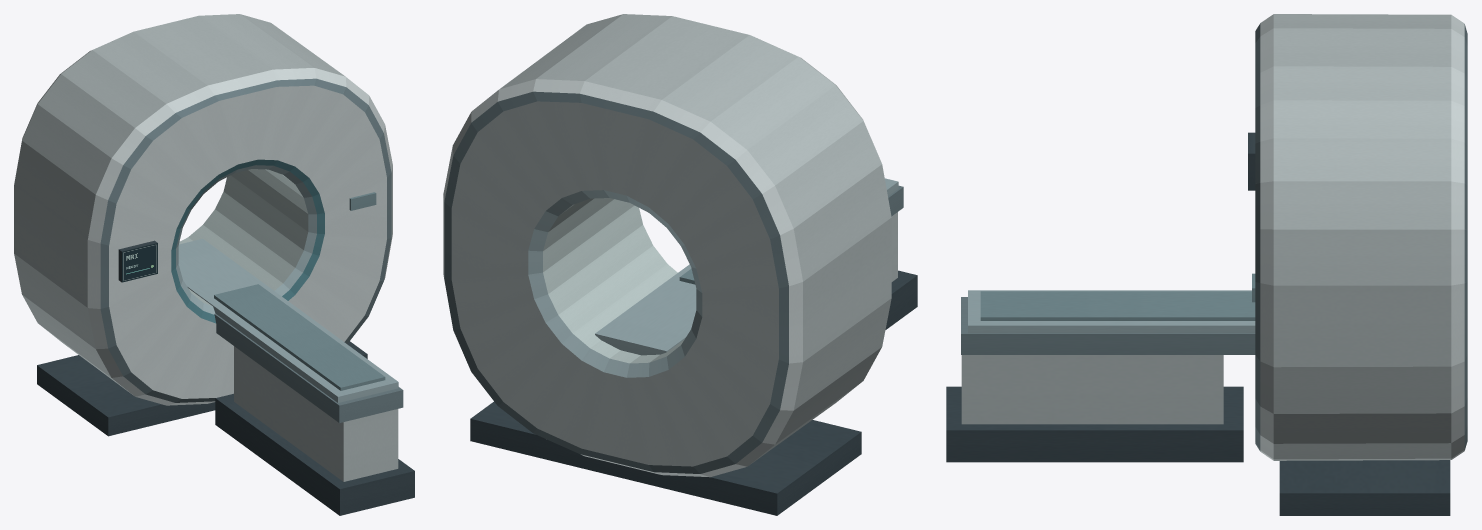
File: MRI_Scanner.glb
3 renders of one model, left to right at view 1: azimuth 30°, elevation 25°; view 2: azimuth 150°, elevation 25°; view 3: azimuth 270°, elevation 25°, orthographic. The views are drawn at different scales.
Parts seen in each view (by area): view 1: MRI_Scanner; view 2: MRI_Scanner; view 3: MRI_Scanner.
Boxes of the visible parts, box(x1,y1,x2,y2) form: MRI_Scanner: box(14, 14, 414, 515); MRI_Scanner: box(443, 14, 917, 515); MRI_Scanner: box(946, 14, 1467, 515).
Size of the model in its own units: 2.29 by 2.36 by 2.84.
Materials: 1 (1 with a texture image).
